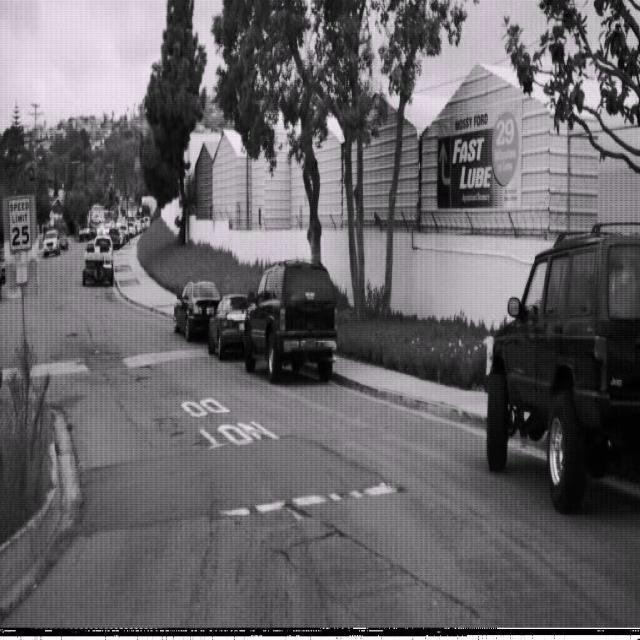speedLimit25: (7, 194, 32, 254)
